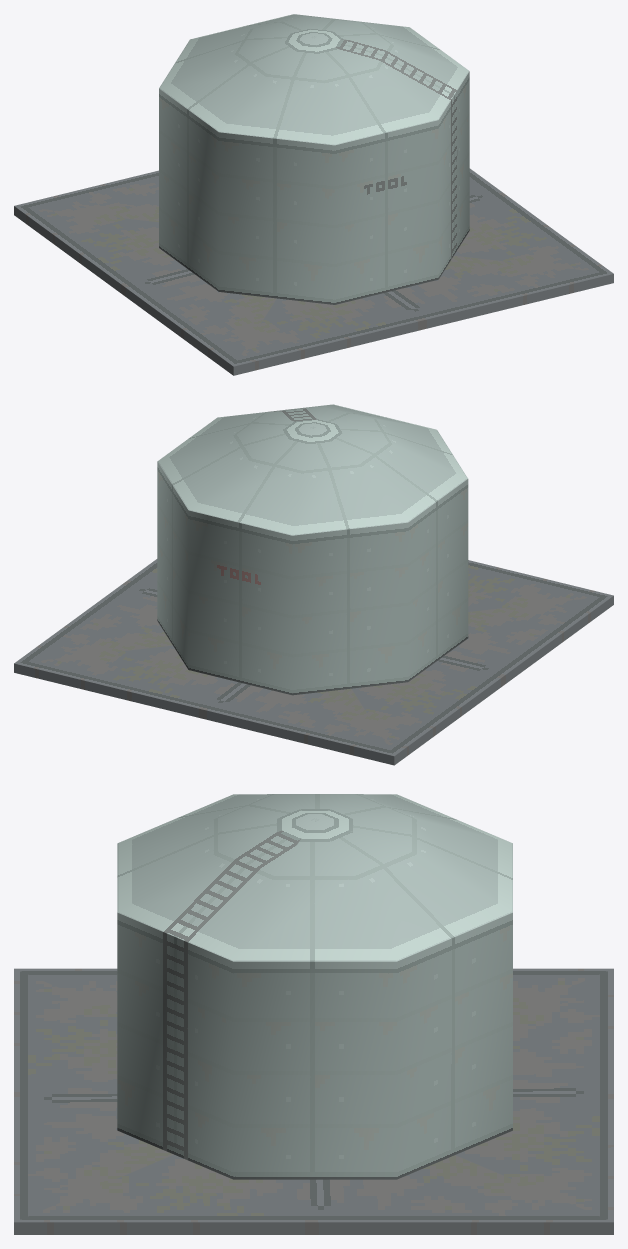
File: 017b_Oil_Tank.glb
3 views of the same model, one above another, from view 1: azimuth 30°, elevation 25°; view 2: azimuth 150°, elevation 25°; view 3: azimuth 270°, elevation 25° (orthographic). The views are drawn at different scales.
Visible parts, largest first — view 1: part_0; view 2: part_0; view 3: part_0.
Boxes of the visible parts, x1,y1,x2,y2 form: part_0: (14, 14, 613, 375); part_0: (14, 404, 613, 765); part_0: (14, 794, 613, 1234).
Bounding box in the file's own units: 18.99 × 10.1 × 18.99.
1 material, 1 textured.
